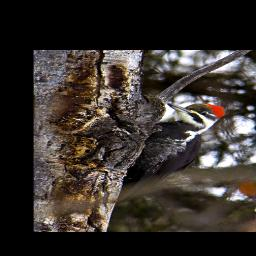Woodpecker: (124, 101, 230, 190)
